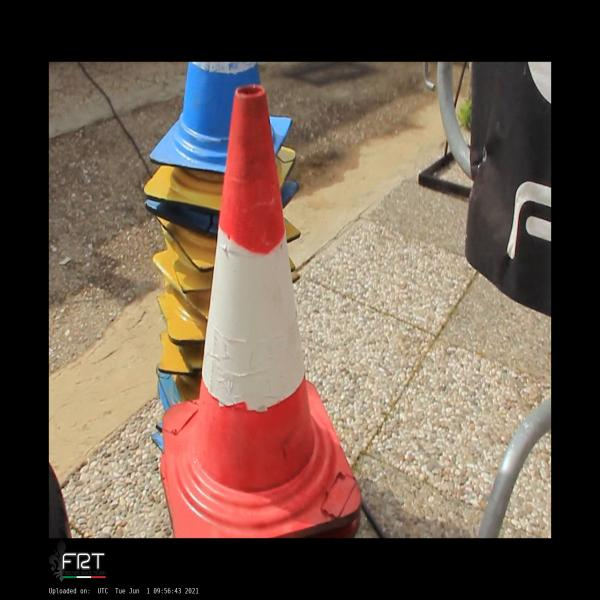blue_cone: (150, 62, 292, 172)
orange_cone: (163, 86, 361, 538)
